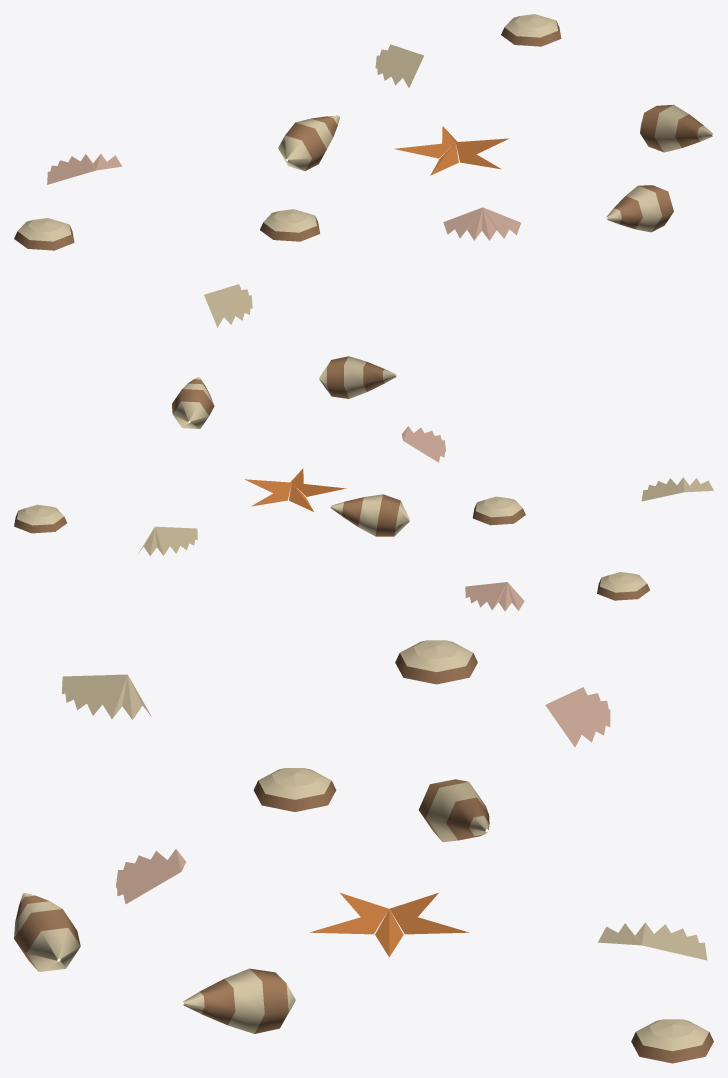
The model's file is sea_shells.glb.
3 renders of one model, top to bottom at view 1: azimuth 30°, elevation 25°; view 2: azimuth 150°, elevation 25°; view 3: azimuth 270°, elevation 25°, orthographic. The views are drawn at different scales.
Parts seen in each view (by area): view 1: Shells; view 2: Shells; view 3: Shells.
Part boxes in pixels (<box>): Shells: <box>14,14,712,327</box>; Shells: <box>14,356,713,611</box>; Shells: <box>14,640,713,1063</box>.
Bounding box in the file's own units: 1.04 × 0.0674 × 0.7415.
1 material, 1 textured.
